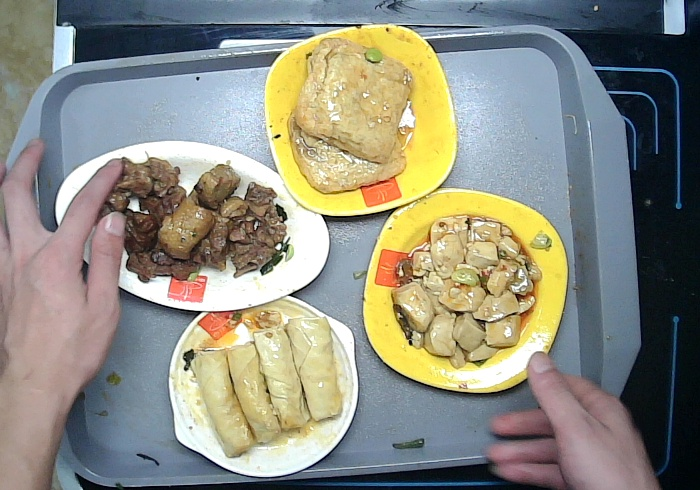SHKJ-Bao_Yu_Pan: (167, 292, 361, 478)
SHKJ-Huang_Se_Cai_Die: (262, 24, 460, 217)
SHKJ-Huang_Se_Si_Fang_Cai_Die: (361, 184, 568, 394)
SHKJ-Yu_Pan: (53, 140, 331, 315)
